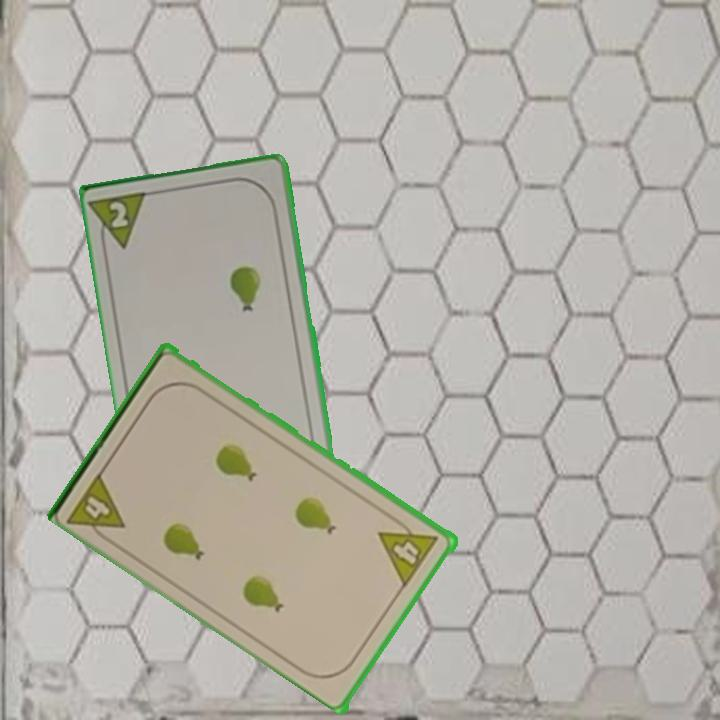2p: (89, 188, 154, 257)
4p: (64, 466, 129, 548), (376, 512, 442, 589)
